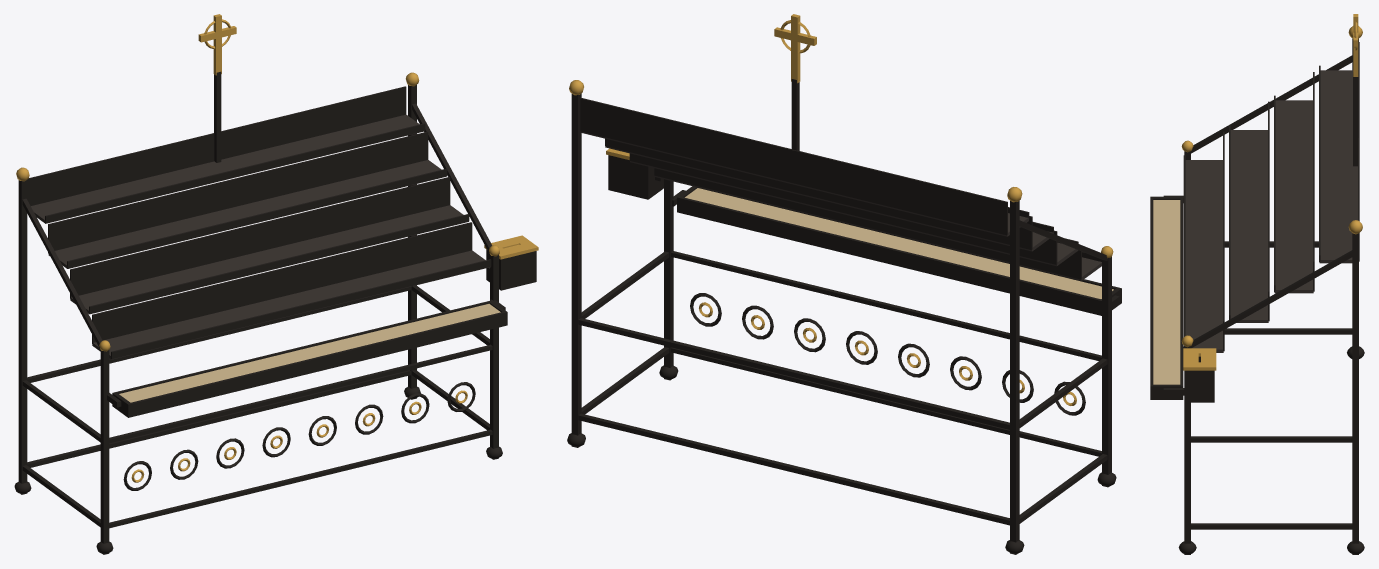
File: prayer-stand.glb
The picture shows the model from 3 angles, left to right: view 1: azimuth 30°, elevation 25°; view 2: azimuth 150°, elevation 25°; view 3: azimuth 270°, elevation 25°; orthographic projection. The views are drawn at different scales.
Parts seen in each view (by area): view 1: iron8, iron5, iron2, iron11, iron36, ironLight9, ironLight6, ironLight3, ironLight0, sand37, iron7, iron1 (+17 smaller); view 2: iron11, iron36, sand37, iron5, iron2, iron24, iron8, iron34, iron35, iron13, iron40, iron41 (+11 smaller); view 3: ironLight6, ironLight3, ironLight0, ironLight9, sand37, iron24, iron36, iron27, iron30, iron31, iron16, iron23 (+12 smaller).
Part boxes in pixels (left/top/right/bottom): iron8: left=48, top=131, right=428, bottom=253; iron5: left=70, top=177, right=450, bottom=298; iron2: left=92, top=222, right=472, bottom=343; iron11: left=27, top=86, right=406, bottom=205; iron36: left=112, top=300, right=507, bottom=417; ironLight9: left=31, top=114, right=424, bottom=223; ironLight6: left=48, top=160, right=446, bottom=268; ironLight3: left=70, top=205, right=468, bottom=314; ironLight0: left=92, top=250, right=490, bottom=359; sand37: left=119, top=303, right=500, bottom=402; iron7: left=67, top=168, right=447, bottom=268; iron1: left=111, top=259, right=491, bottom=358; iron11: left=580, top=97, right=1007, bottom=235; iron36: left=677, top=186, right=1121, bottom=315; sand37: left=685, top=188, right=1113, bottom=298; iron5: left=629, top=153, right=1057, bottom=264; iron2: left=654, top=168, right=1081, bottom=279; iron24: left=571, top=94, right=581, bottom=447; iron8: left=605, top=138, right=1032, bottom=249; iron34: left=578, top=413, right=1009, bottom=525; iron35: left=578, top=318, right=1009, bottom=429; iron13: left=1010, top=200, right=1019, bottom=554; iron40: left=671, top=251, right=1101, bottom=360; iron41: left=671, top=347, right=1101, bottom=456; ironLight6: left=1274, top=100, right=1313, bottom=293; ironLight3: left=1230, top=130, right=1268, bottom=322; ironLight0: left=1185, top=160, right=1223, bottom=352; ironLight9: left=1319, top=70, right=1357, bottom=263; sand37: left=1153, top=200, right=1180, bottom=384; iron24: left=1352, top=233, right=1358, bottom=554; iron36: left=1150, top=196, right=1183, bottom=399; iron27: left=1191, top=250, right=1352, bottom=348; iron30: left=1191, top=523, right=1352, bottom=529; iron31: left=1191, top=436, right=1352, bottom=442; iron16: left=1191, top=55, right=1352, bottom=153; iron23: left=1184, top=346, right=1190, bottom=554.
Size of the model in its own units: 1.73 by 1.62 by 0.715.
